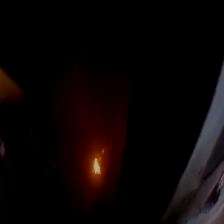fire: (87, 150, 107, 181)
